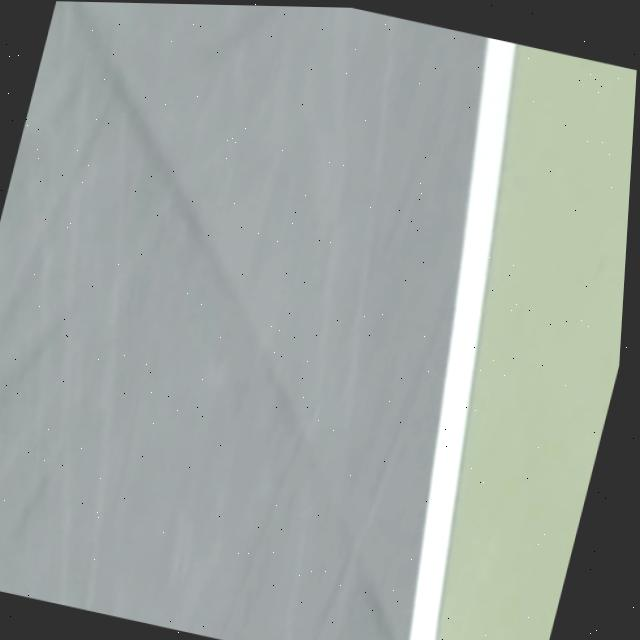right: (408, 38, 515, 640)
